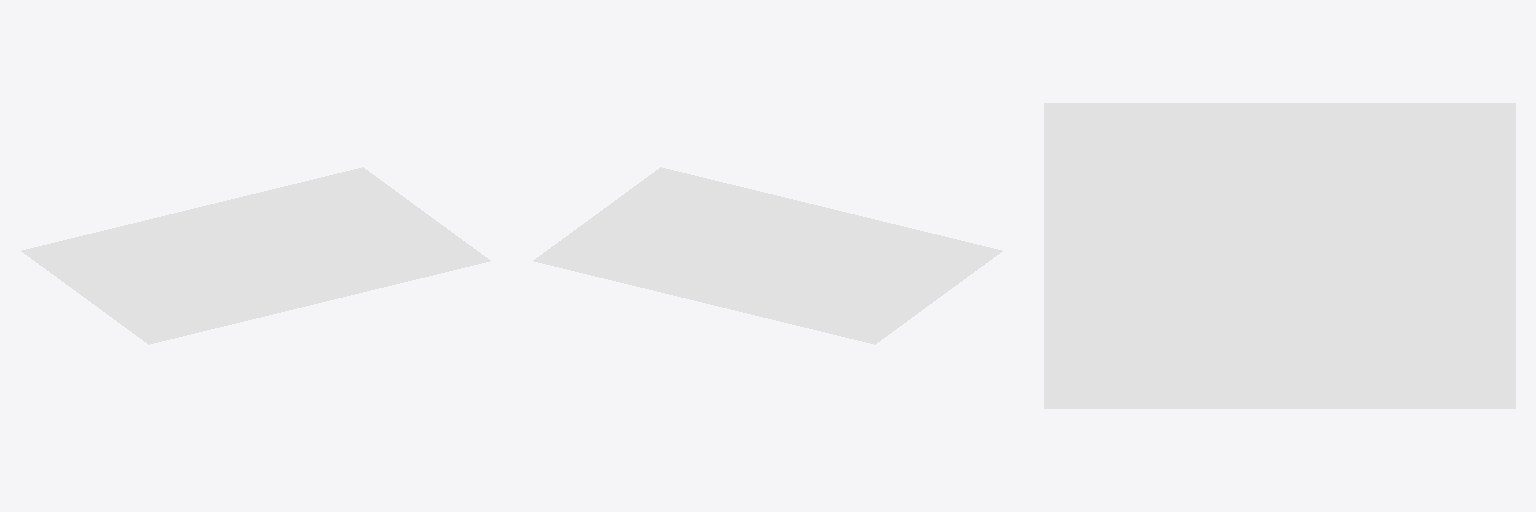
URDF robot description (soccer_field):
<?xml version="1.0"?>
<!--
  field.png has grass margins around its painted boundary. Scaling the full
  image to 8.533333 x 5.533679 m makes the painted lines span the simulation's
  8 m x 5 m playable area.
-->
<robot name="soccer_field">
  <link name="soccer_field">
    <visual>
      <origin xyz="0 0 0"/>
      <geometry>
        <mesh filename="field_plane.obj" scale="8.5333336 5.533679 0.01"/>
      </geometry>
      <material name="field_white">
        <color rgba="1 1 1 1"/>
      </material>
    </visual>

    <collision>
      <origin xyz="0 0 0"/>
      <geometry>
        <box size="8.5333336 5.533679 0.01"/>
      </geometry>
    </collision>
  </link>
</robot>

--- Facts derived from the render (not from the file) ---
3 views of the same robot in one strip: view 1: azimuth 30°, elevation 25°; view 2: azimuth 150°, elevation 25°; view 3: azimuth 270°, elevation 25° (orthographic).
Model soccer_field with 1 links and 0 joints (none), rooted at soccer_field, posed all joints at 0.
Visible links, largest first — view 1: soccer_field; view 2: soccer_field; view 3: soccer_field.
Boxes of the visible links, x1=… form: soccer_field: x1=21, y1=167, x2=490, y2=344; soccer_field: x1=533, y1=167, x2=1002, y2=344; soccer_field: x1=1044, y1=103, x2=1515, y2=408.
Bounding box of the posed robot: 8.53 × 5.53 × 0 m (x, y, z).
1 mesh visuals loaded from 1 distinct referenced files (1 OBJ).
